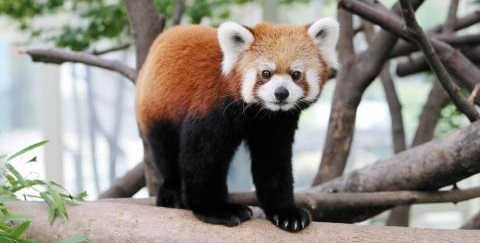redPanda: (126, 10, 353, 231)
